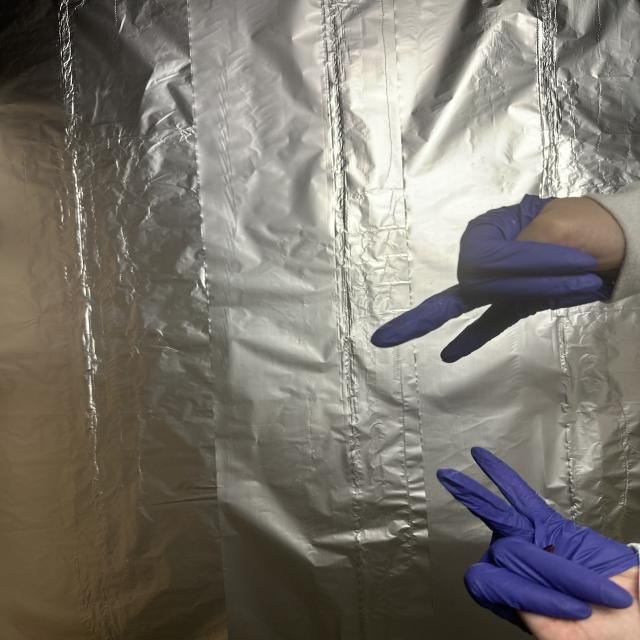glove_partial: (365, 193, 630, 362), (431, 444, 640, 639)
